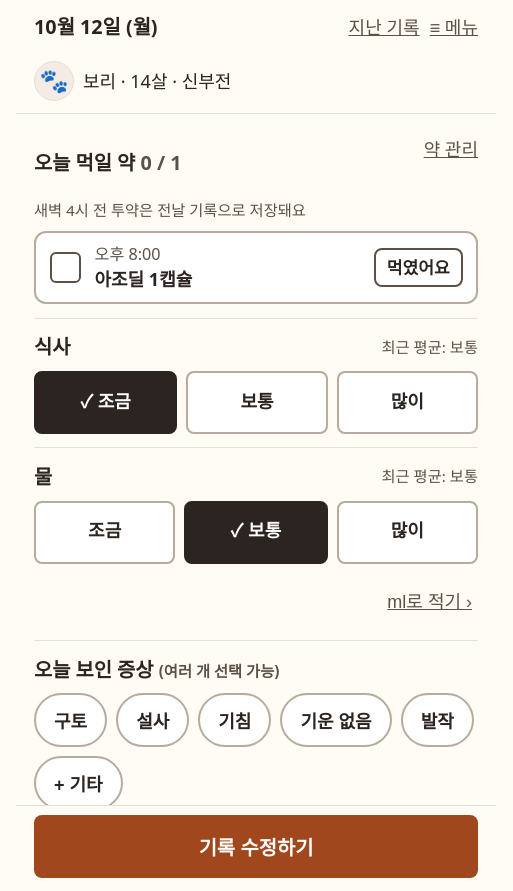
Test case: QA: 04시 경계 분류 › 복원 PUT 이 400 INVALID_RECORD_DATE 여도 만료 안내(서버 오류 문구가 아니다)
Click the button "기록 수정하기". click: (256, 846)
box: [34, 814, 478, 878]
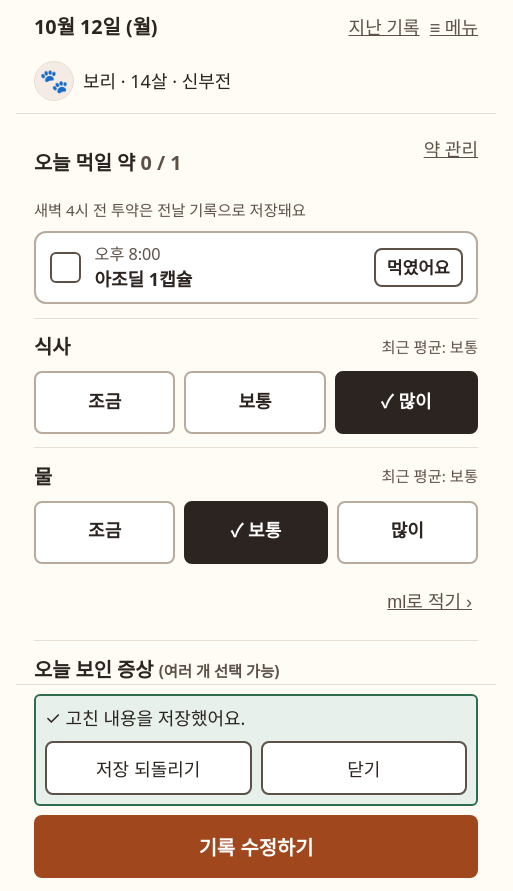
Click the button "저장 되돌리기". click: (148, 768)
box: [45, 740, 252, 794]
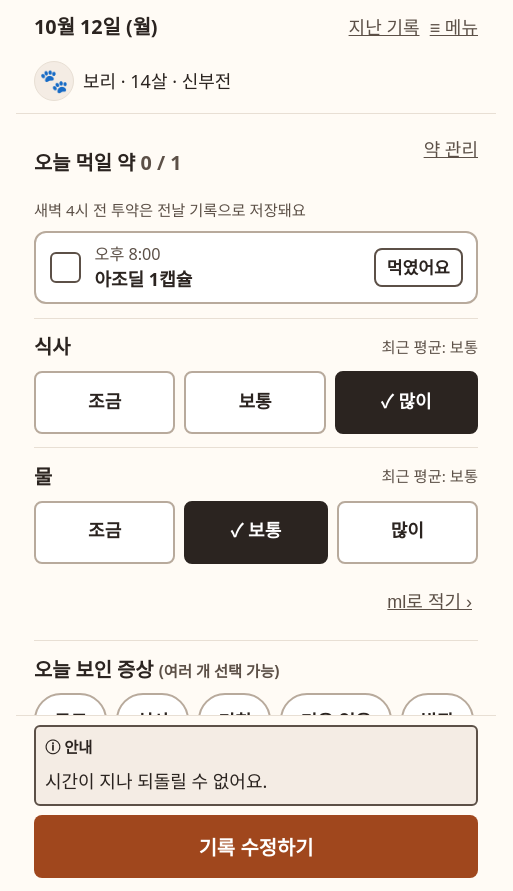
expect the text "시간이 지나 되돌릴 수 없어요." is shown: met, box [45, 768, 267, 792]
